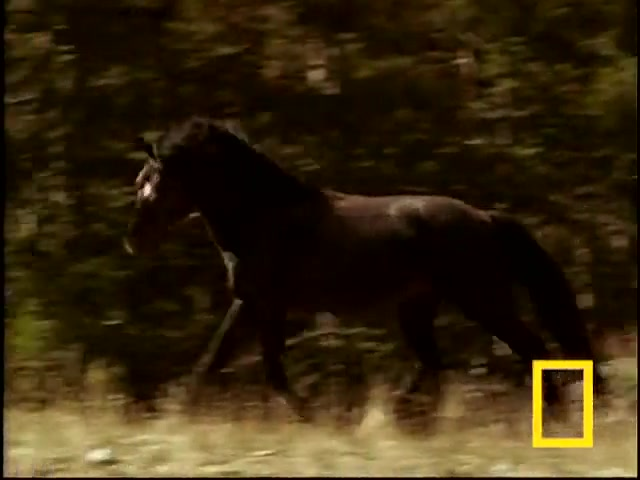horse: (124, 115, 606, 424)
